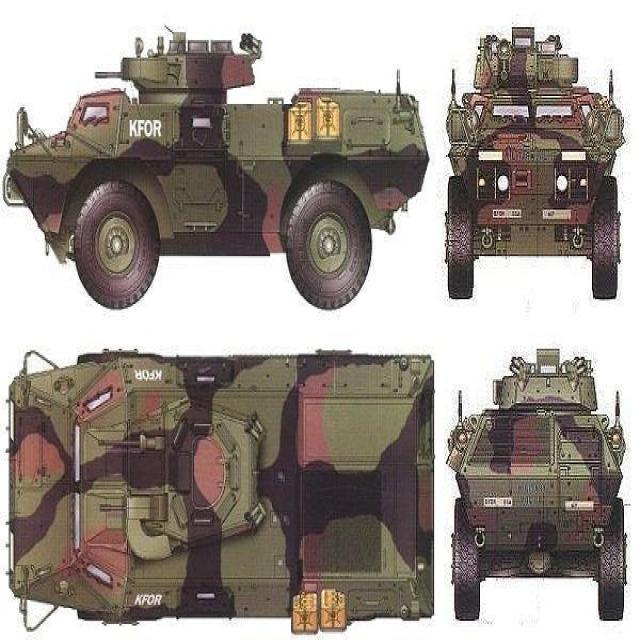MIL_MBT: (11, 345, 435, 634), (4, 23, 429, 311), (444, 21, 627, 307), (450, 345, 628, 623)
